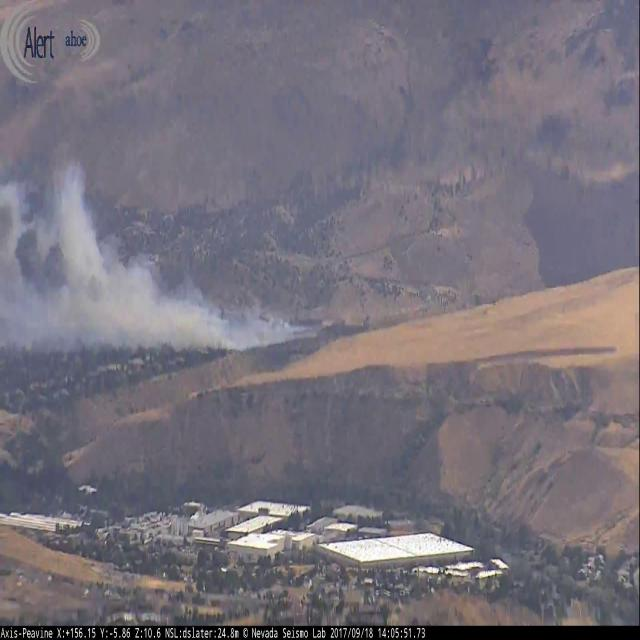smoke: (0, 158, 303, 349)
